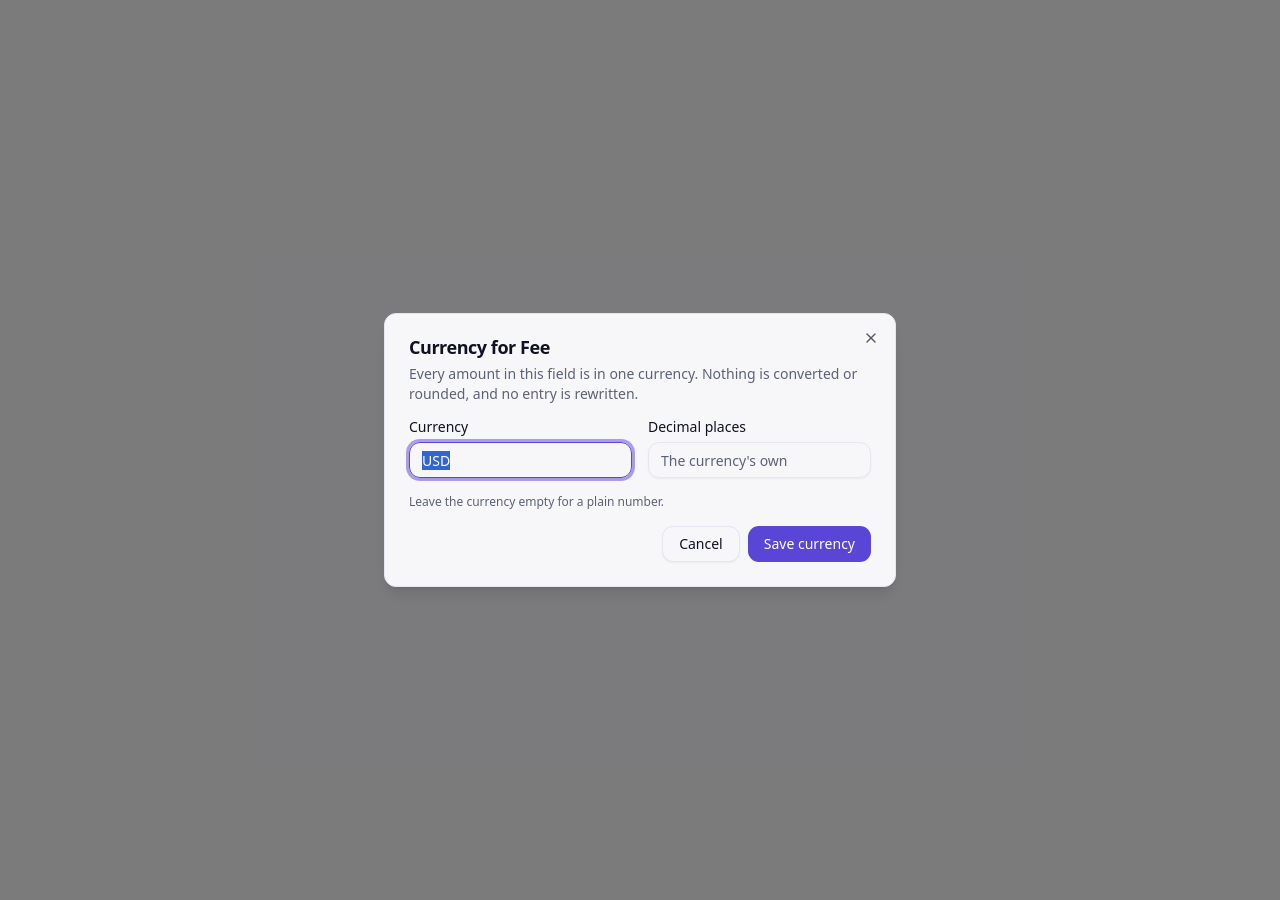
Test case: changing the currency of a money field › offers Save anyway on a 409 about the amounts entries hold
Type "EUR" into the field labelled "Currency" at (520, 460), box [409, 442, 632, 478]
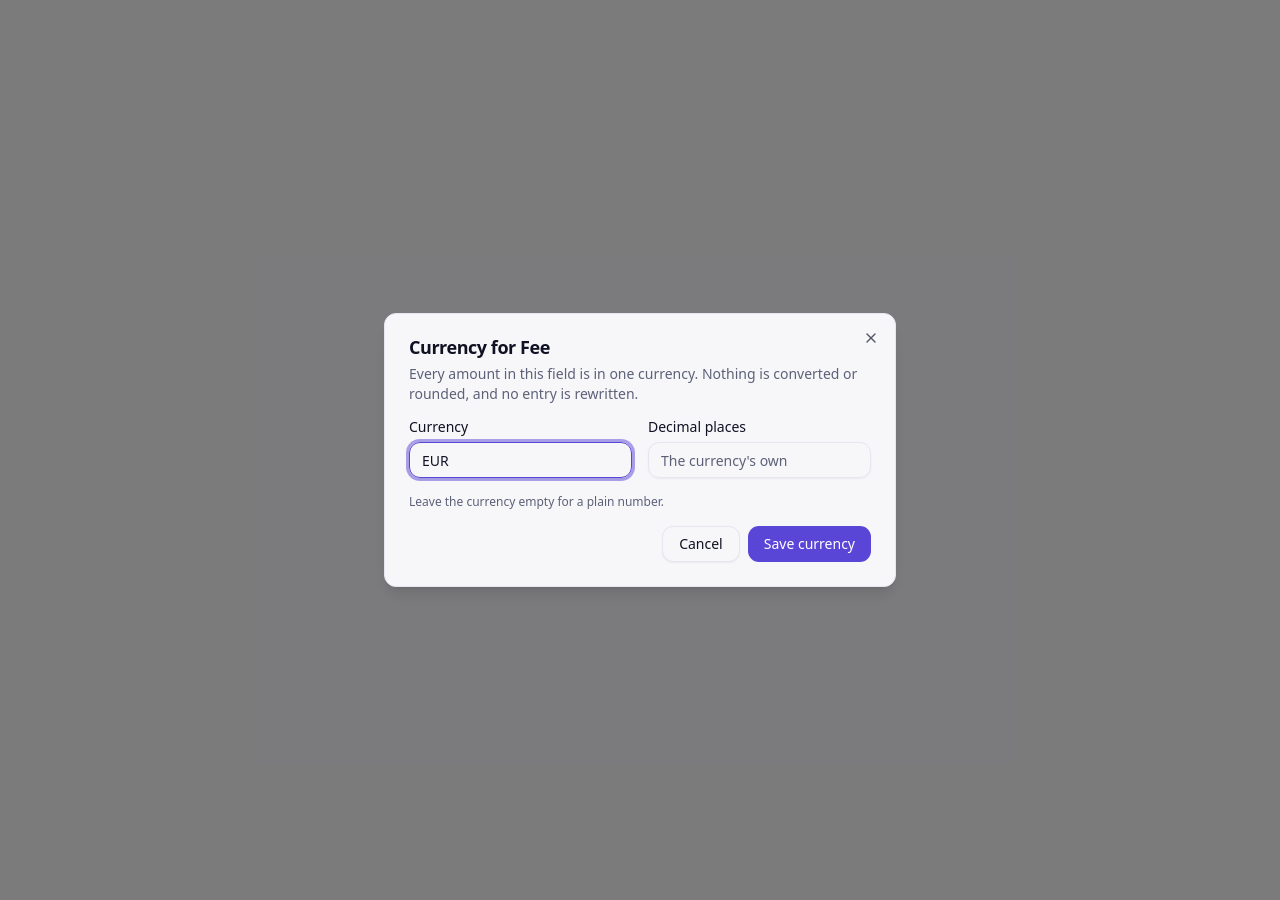
Click the button "Save currency" at (809, 544), box [748, 526, 871, 562]
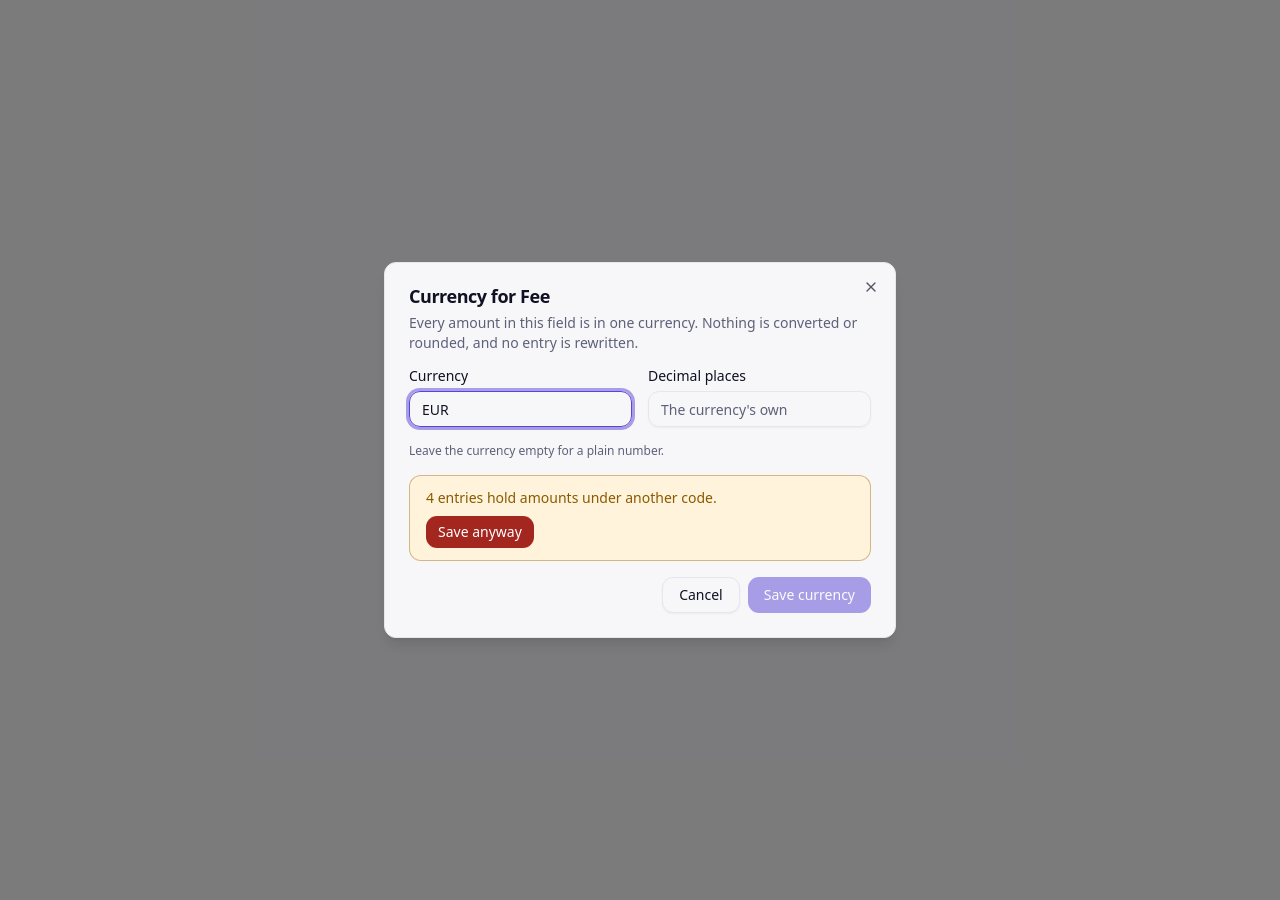
Now the message shows "4 entries hold amounts under another code.", box [426, 488, 717, 507]
Now the button "Save anyway" is shown, box [426, 516, 534, 548]
